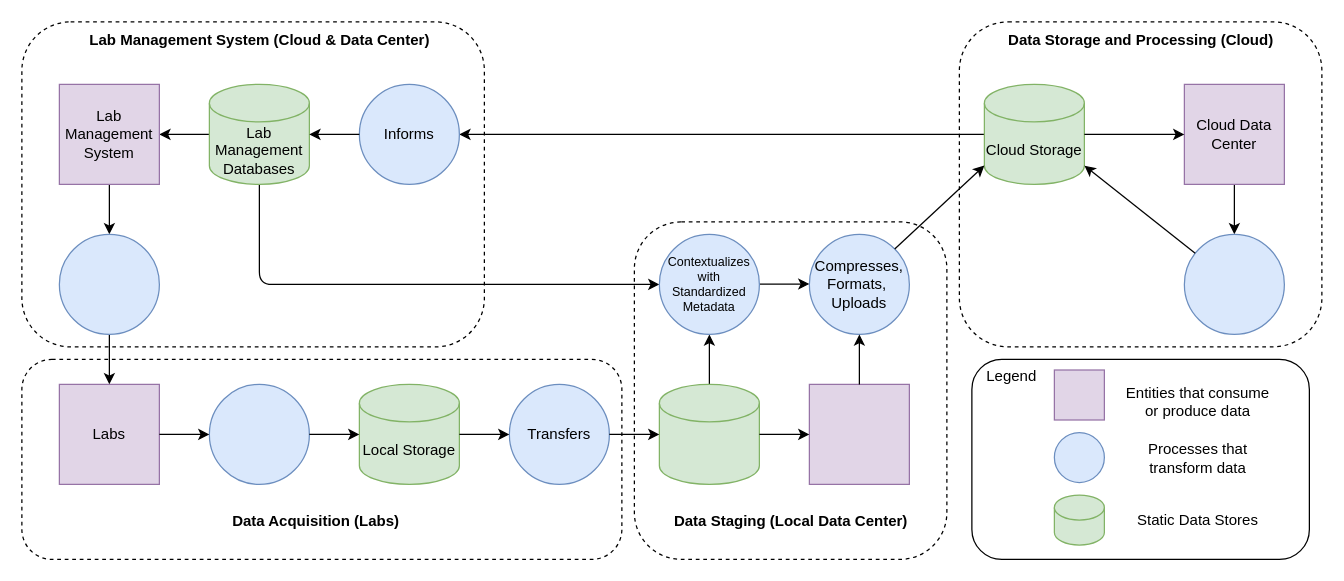
This 1344x581 diagram has some shape labels left out. Here are the shapes that lost their labels. From the top down, the centre of each, then its label:
At (108,283): "Instructs".
At (1233,283): "Process Analyze QC".
At (258,433): "Acquires".
At (708,433): "Local Data Center Storage".
At (858,433): "Local Data Center".
